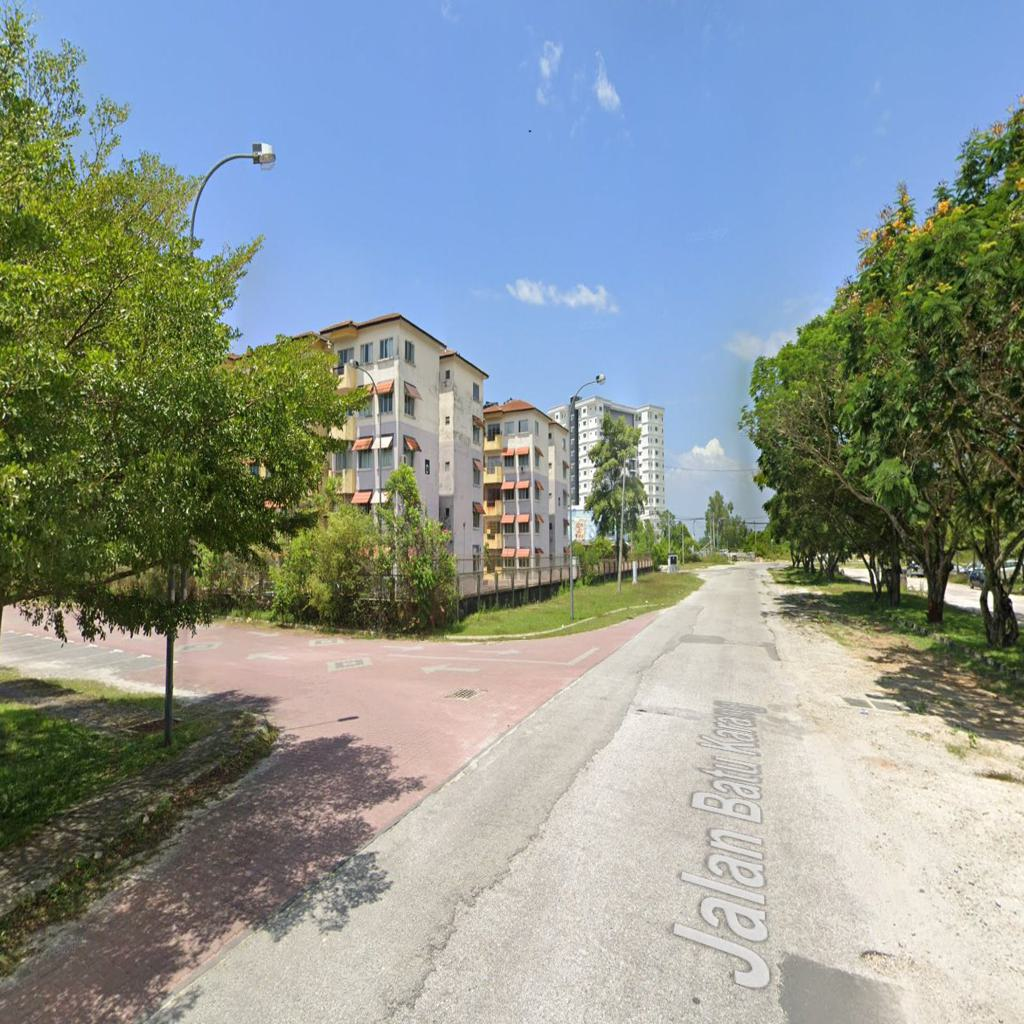Junction: (182, 611, 635, 879)
